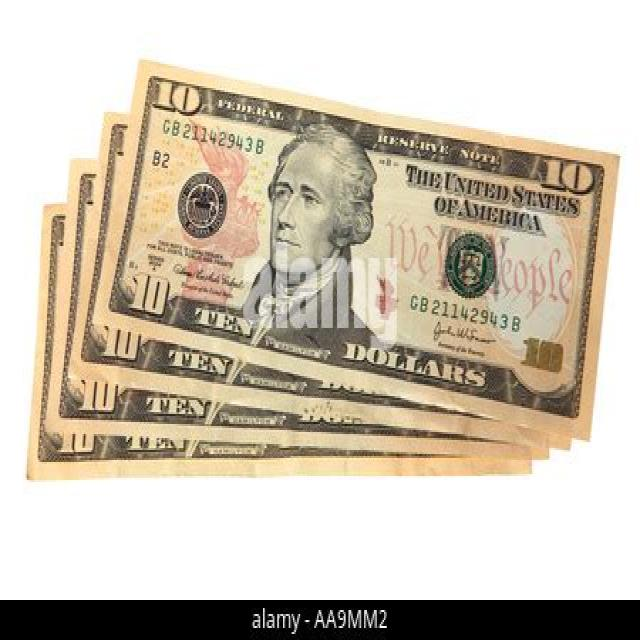Ten: (108, 59, 618, 440)
